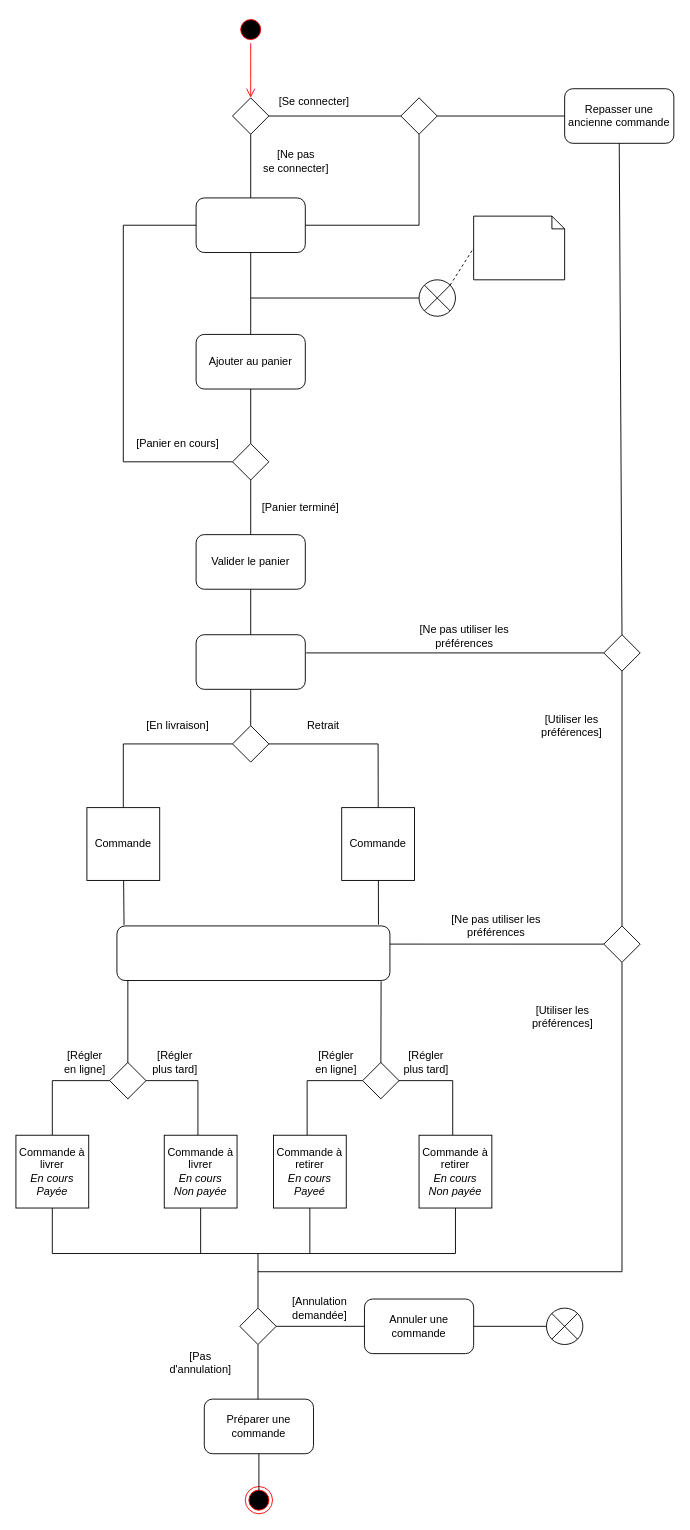
The diagram is 690 pixels wide and 1530 high, and some of its shapes have lost their labels. The shapes that lost their labels are listed below. From the top down, each one's box as (x1, y1, x2, y2) in pixels, then its label:
(195, 197, 305, 253): Consulter le menu
(473, 215, 565, 280): L'utilisateur n'effectue aucune commande
(195, 634, 305, 689): Choix du mode de retrait
(116, 925, 390, 981): Choix du mode de paiement
